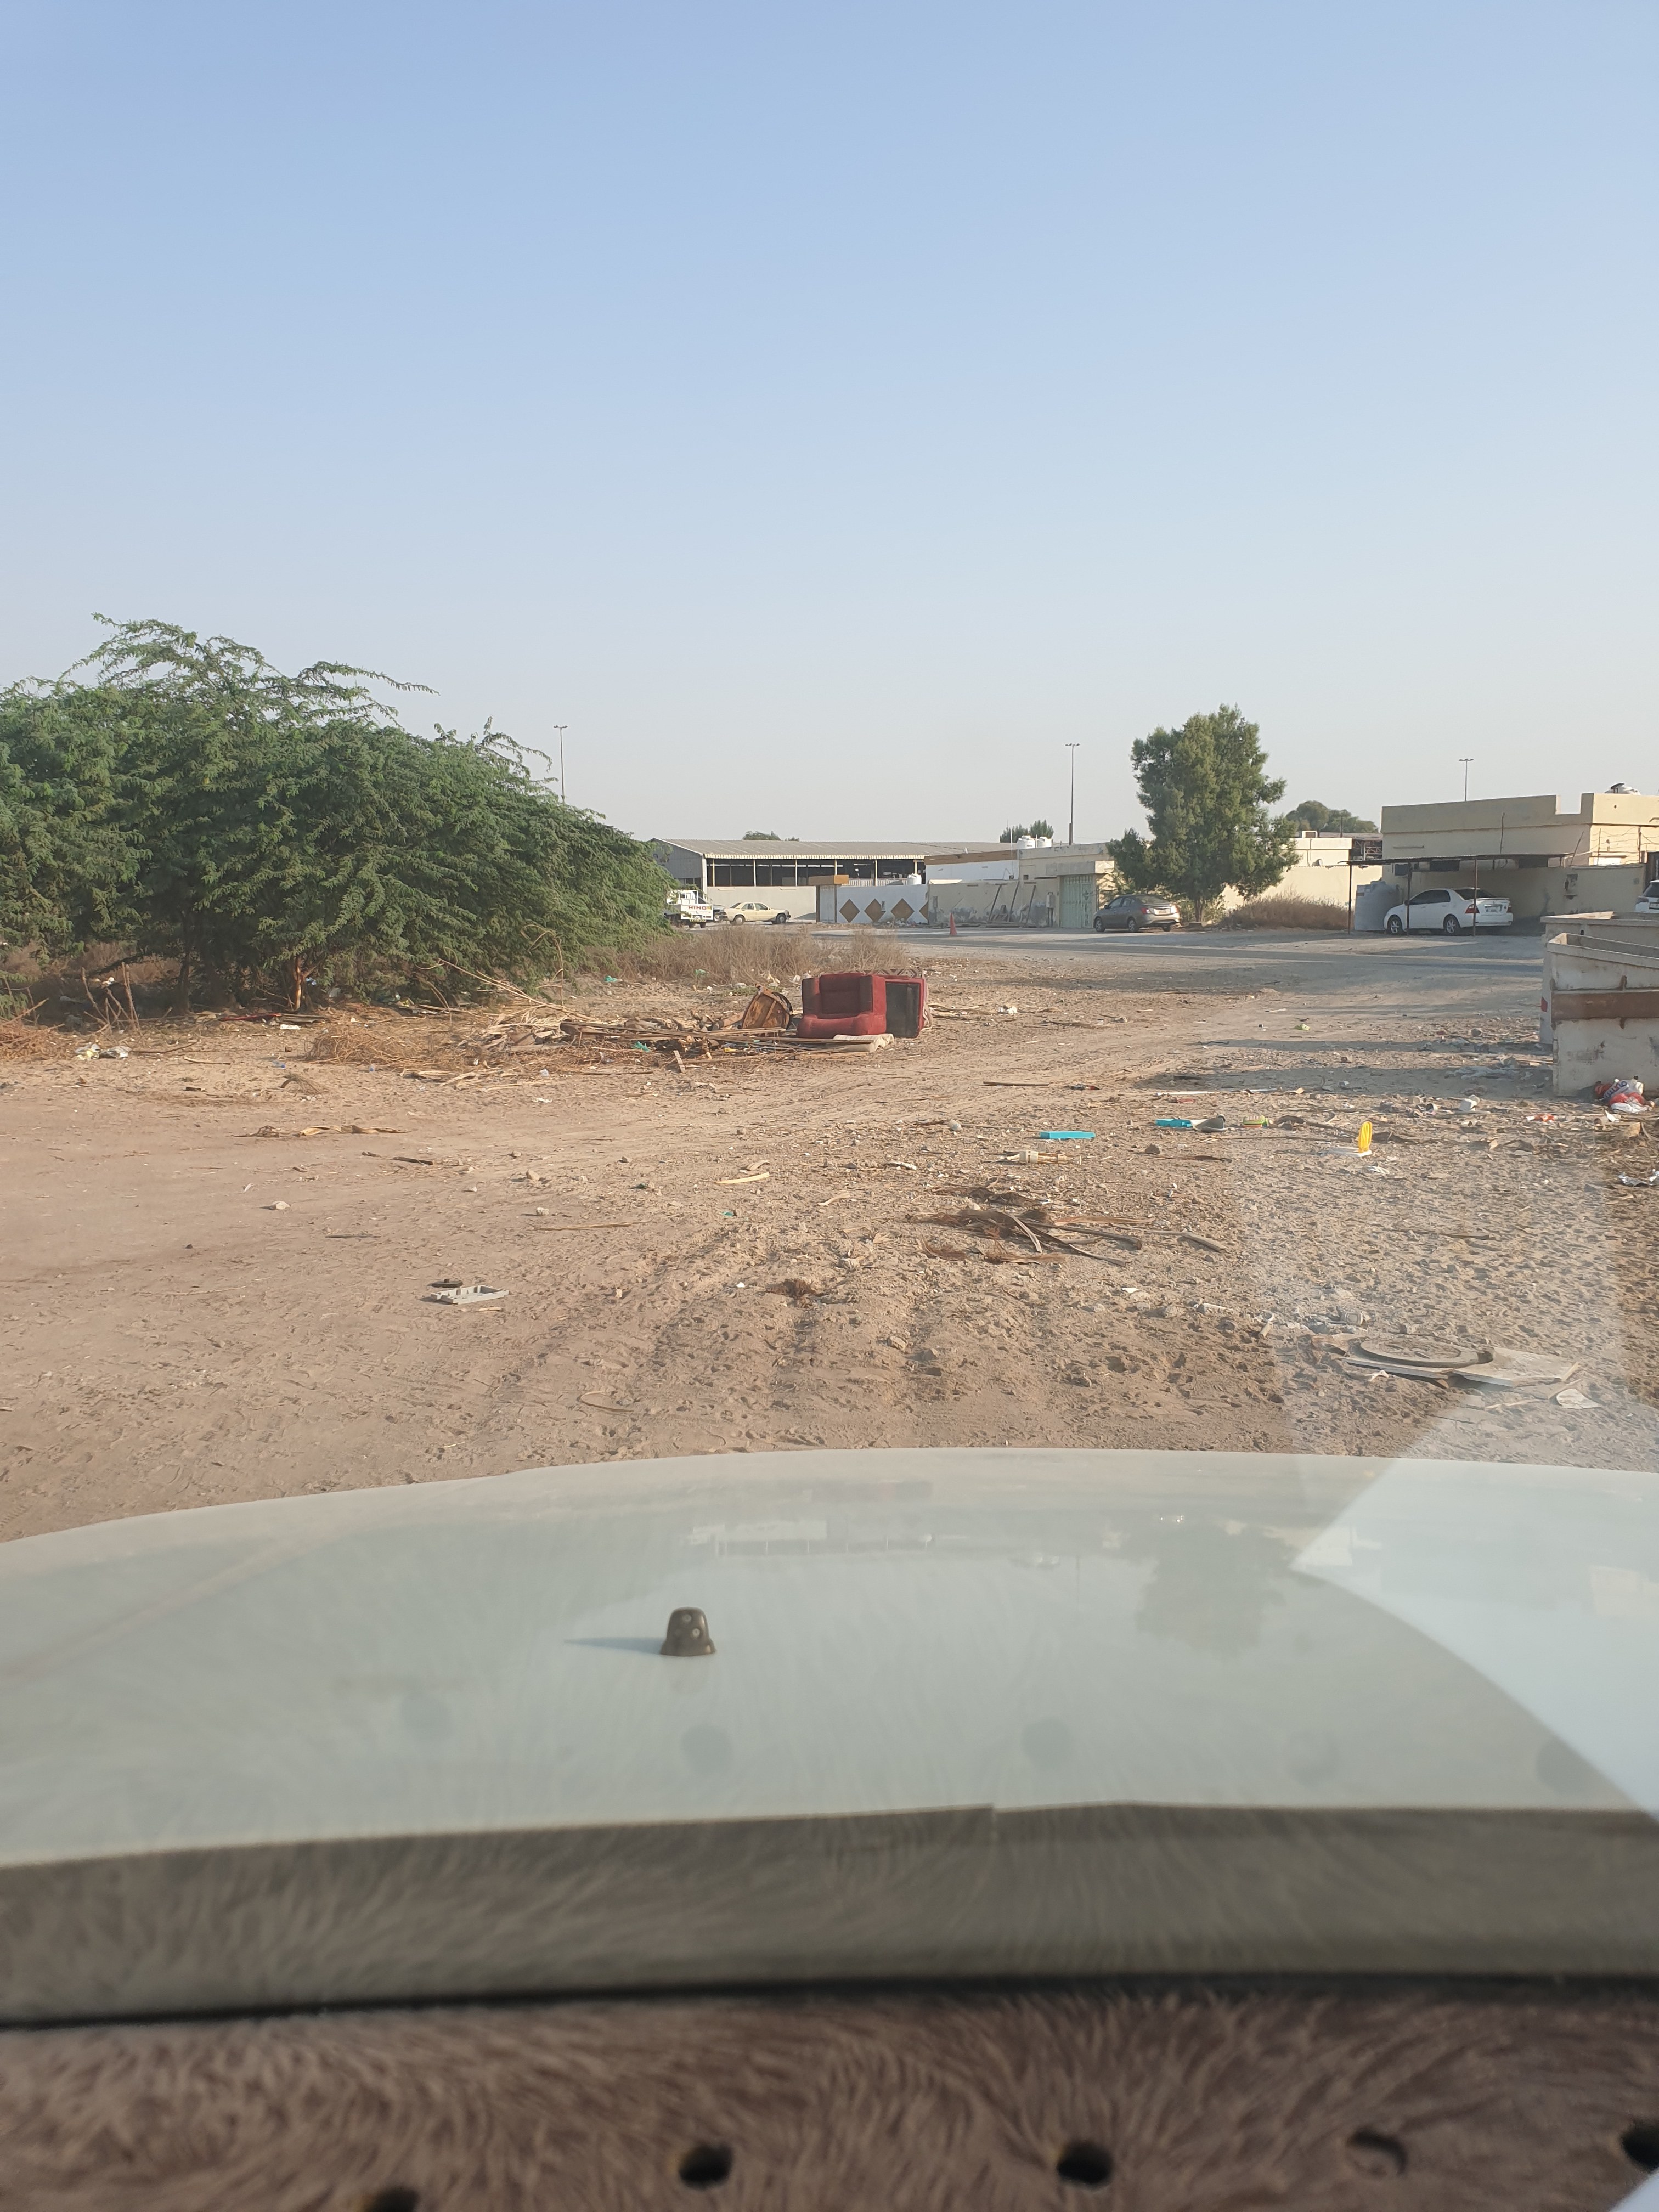fallen_trees: (303, 1003, 784, 1076), (925, 1141, 1119, 1296)
